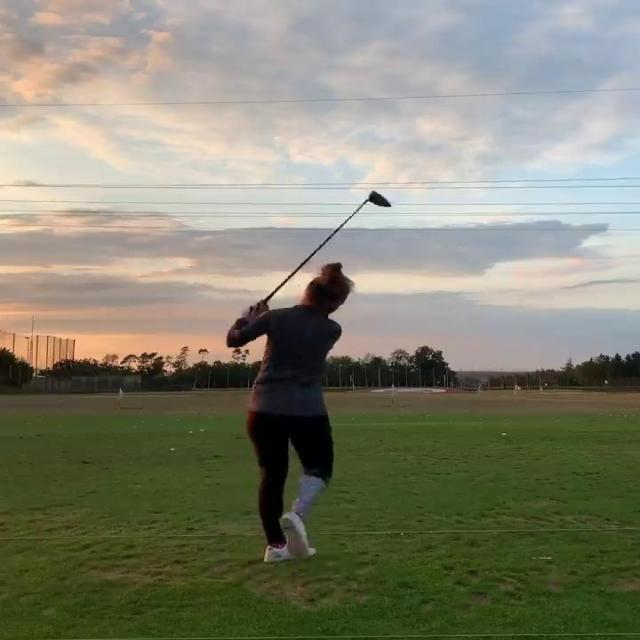ClubHandle: (266, 190, 391, 303)
ClubHead: (369, 190, 391, 208)
